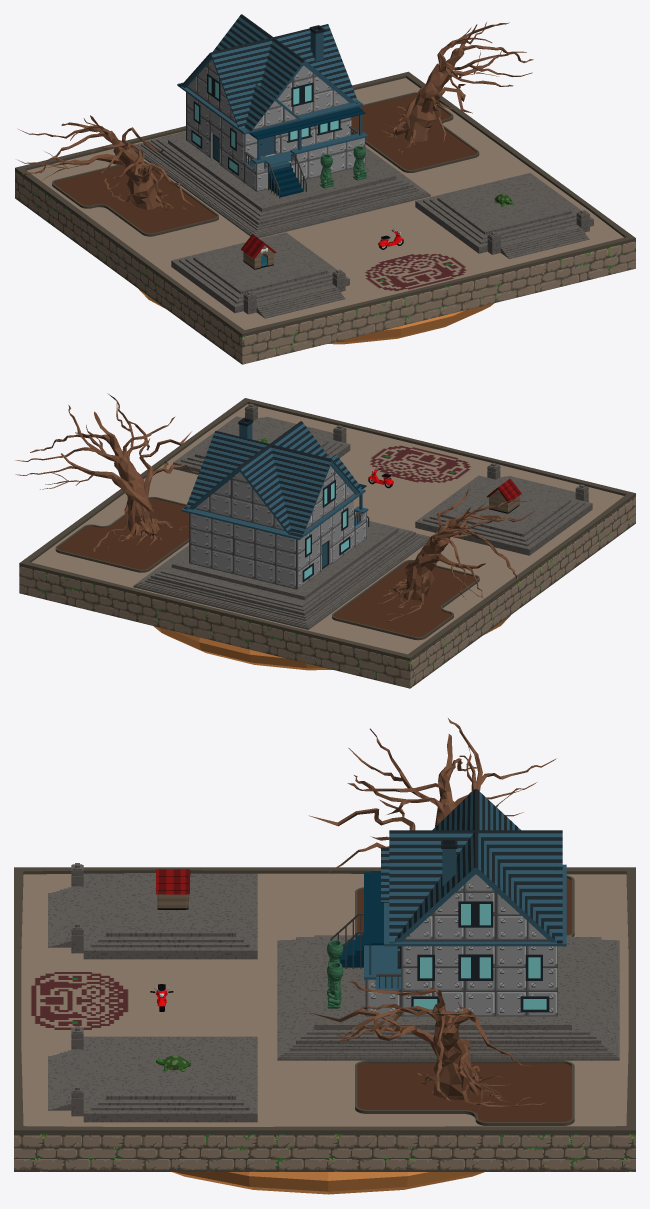
3 views of the same model, one above another, from view 1: azimuth 30°, elevation 25°; view 2: azimuth 150°, elevation 25°; view 3: azimuth 270°, elevation 25° (orthographic). The views are drawn at different scales.
Visible parts, largest first — view 1: Cube.011, Cube.078, UNDERGROUND_PIZZA, OBJRANDOM_DOGHOUSE; view 2: Cube.011, Cube.078, UNDERGROUND_PIZZA, OBJRANDOM_DOGHOUSE; view 3: Cube.011, Cube.078, UNDERGROUND_PIZZA, OBJRANDOM_DOGHOUSE.
Part boxes in pixels (x1=…): Cube.011: x1=15, y1=22, x2=635, y2=364; Cube.078: x1=177, y1=14, x2=367, y2=198; UNDERGROUND_PIZZA: x1=139, y1=289, x2=493, y2=344; OBJRANDOM_DOGHOUSE: x1=241, y1=234, x2=276, y2=269; Cube.011: x1=15, y1=393, x2=635, y2=688; Cube.078: x1=181, y1=417, x2=369, y2=589; UNDERGROUND_PIZZA: x1=153, y1=615, x2=510, y2=670; OBJRANDOM_DOGHOUSE: x1=486, y1=478, x2=521, y2=513; Cube.011: x1=14, y1=718, x2=635, y2=1171; Cube.078: x1=330, y1=789, x2=566, y2=1016; UNDERGROUND_PIZZA: x1=172, y1=1172, x2=484, y2=1194; OBJRANDOM_DOGHOUSE: x1=156, y1=869, x2=190, y2=909.
Bounding box in the file's own units: 5099 × 1872 × 4000.
43 materials, 7 textured.
